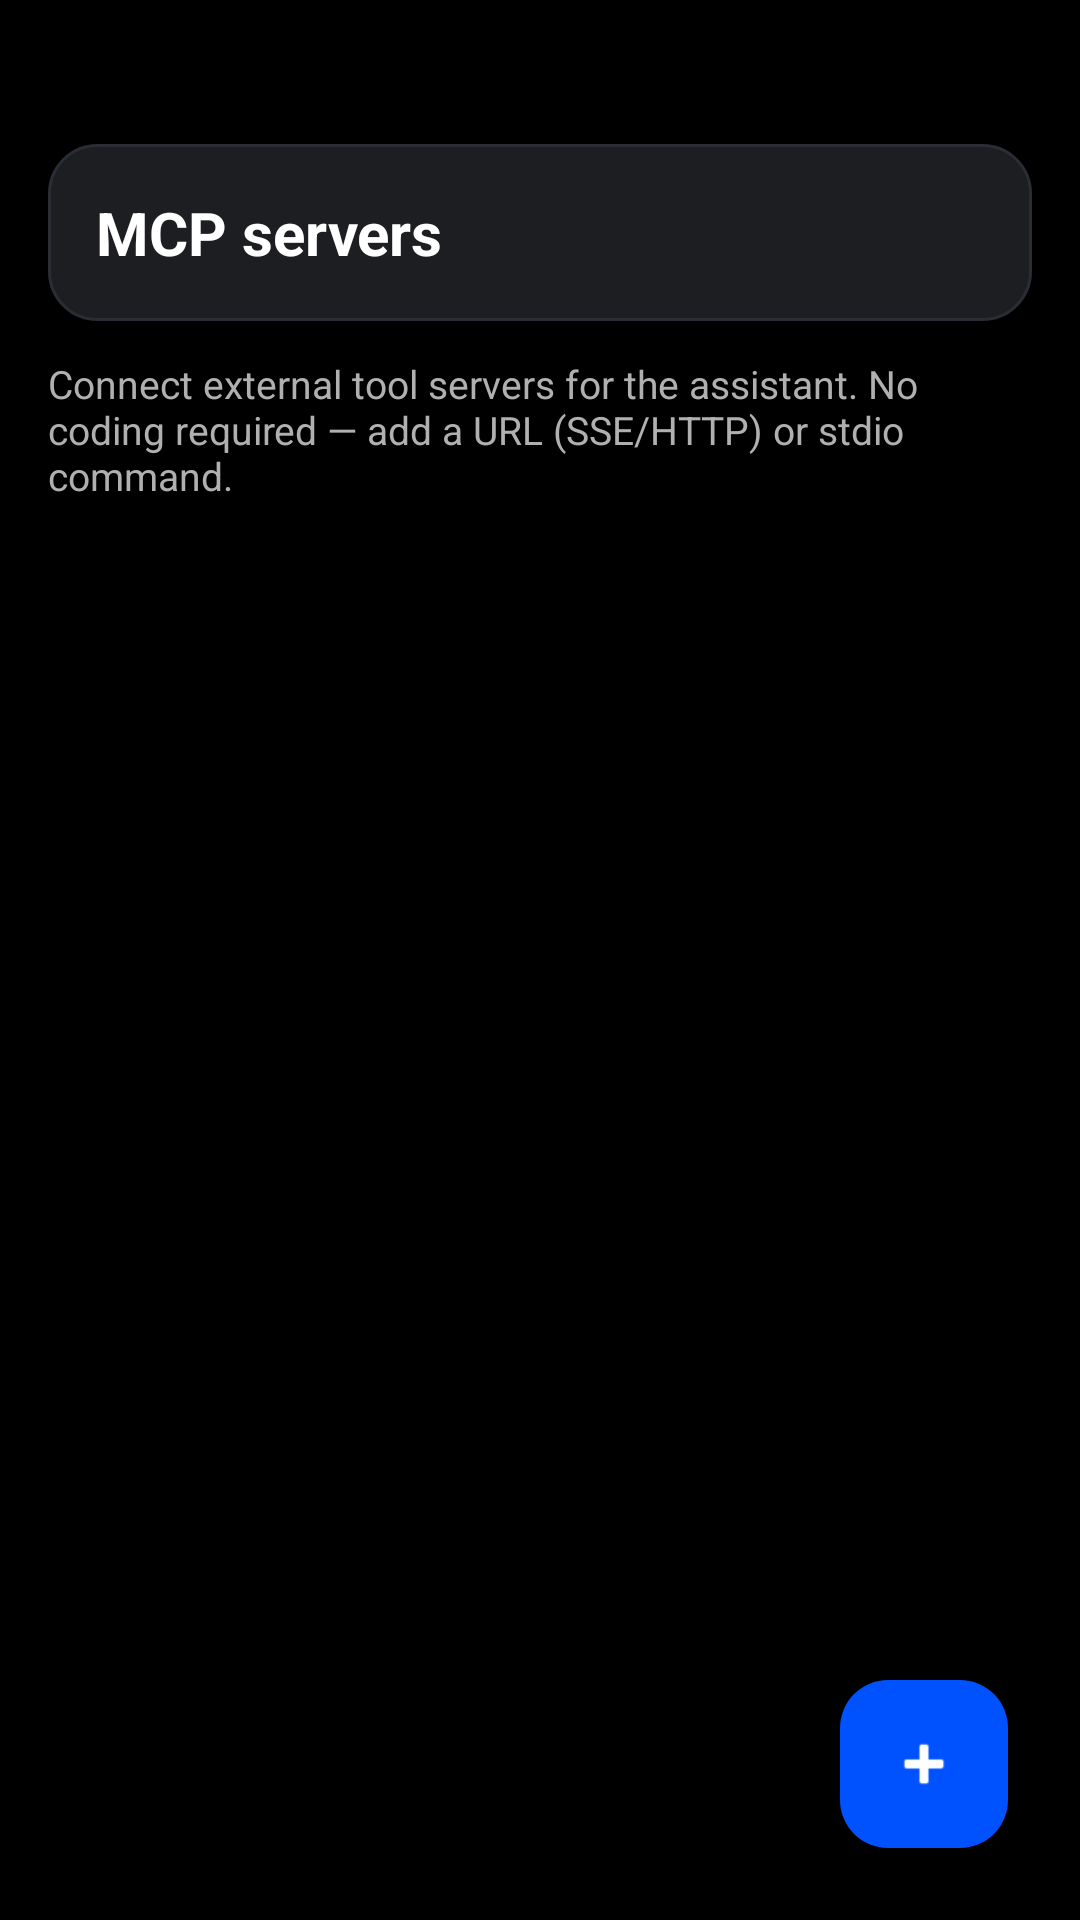

Screen size 1080 × 1920. Icon name, then its box in pixels as (x1, y1, x2, y2):
Add MCP server: (840, 1680, 1008, 1848)
